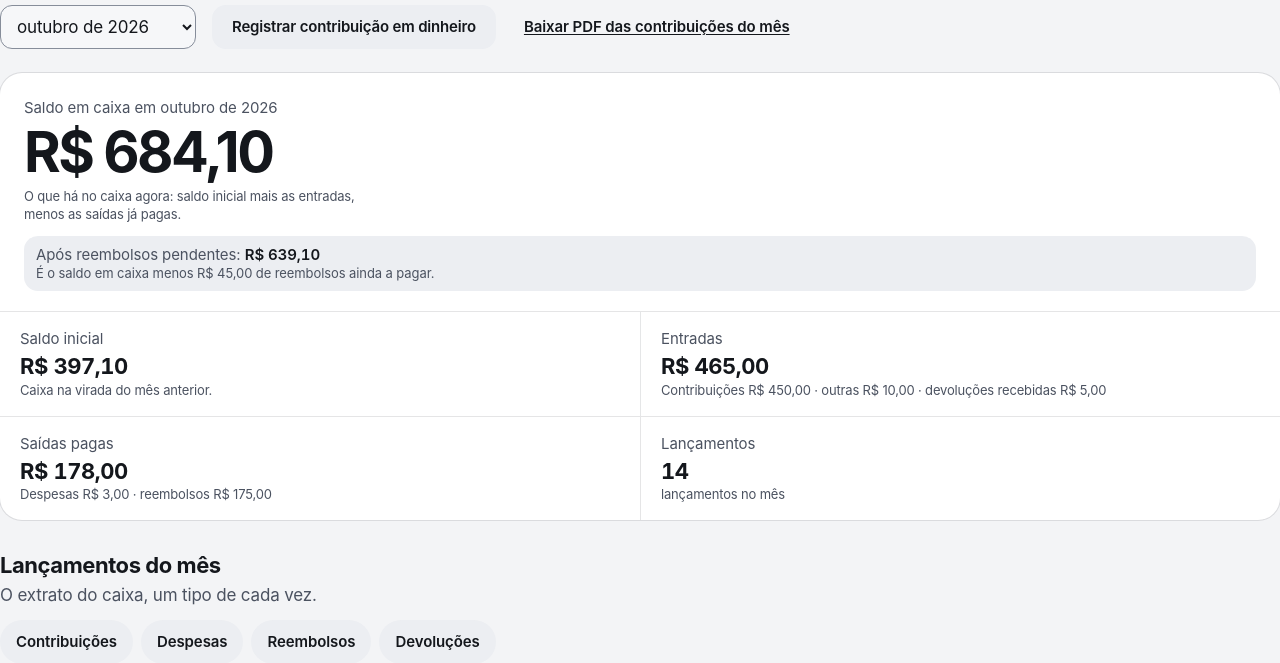
Scenario: PainelData: resumo real › depois de registrar uma contribuicao em dinheiro, os numeros sao recarregados
The image size is (1280, 663).
expect the heading "Saldo em caixa em outubro de 2026" is shown: met, box 24,98 -> 278,117
Step 1. Click the button "Registrar contribuição em dinheiro" → (354, 27), box 212,5 -> 496,49
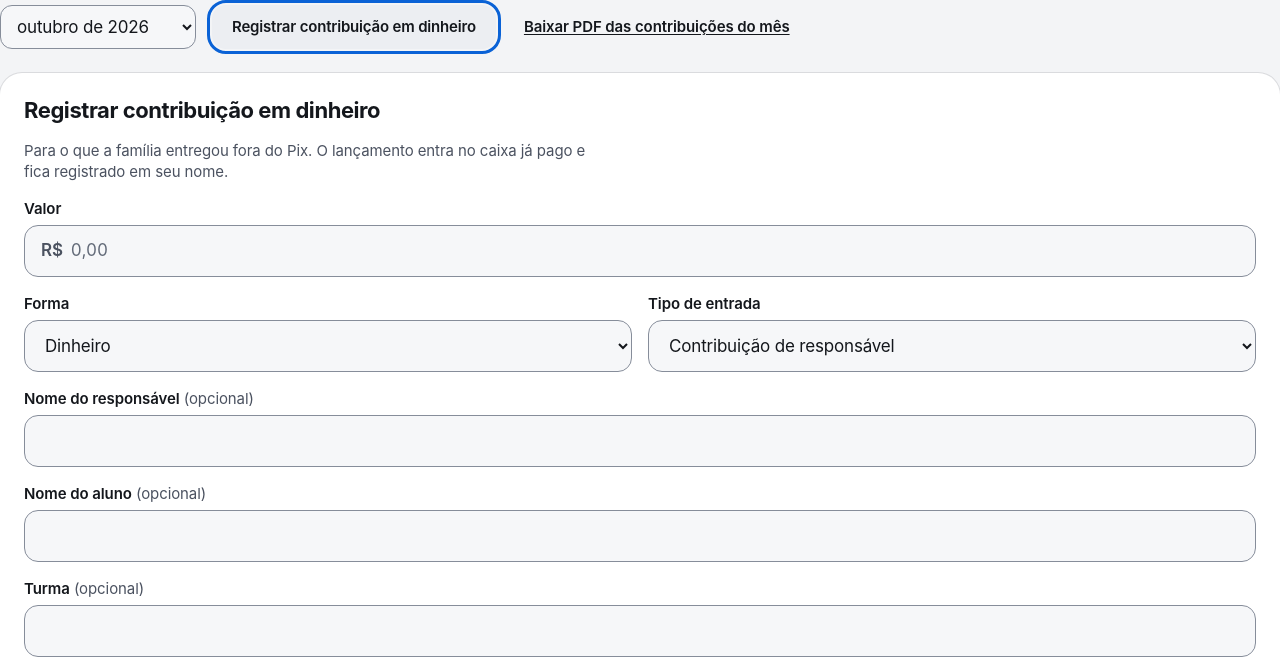
Step 2. Type "5000" into the field labelled "Valor" → (655, 251), box 71,226 -> 1239,276
(page scrolled)
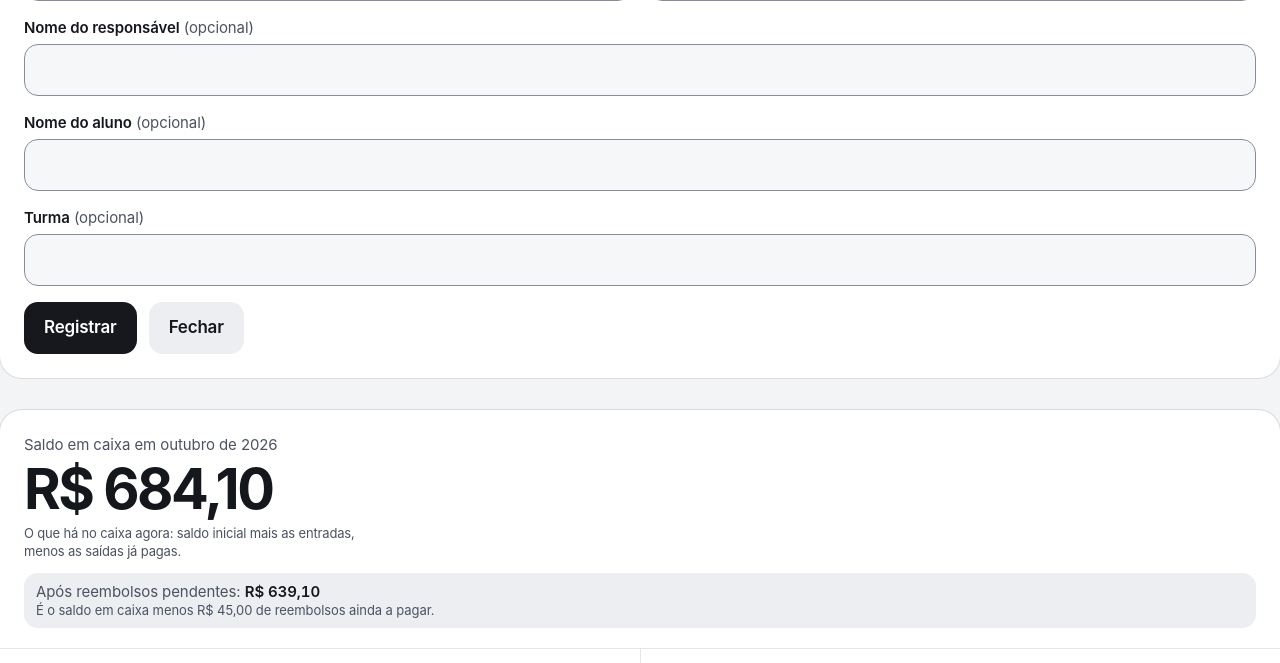
Step 3. Click the button "Registrar" → (80, 328), box 24,302 -> 137,354
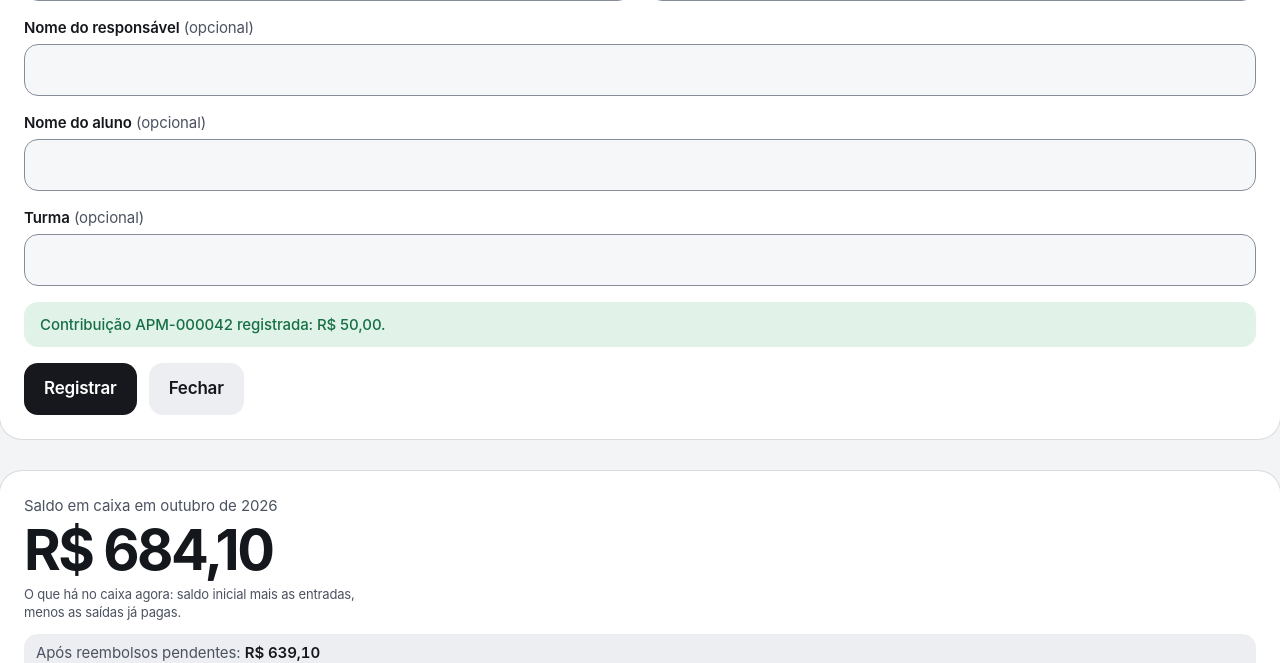
expect the text "Contribuição APM-000042 registrada: R$ 50,00." is shown: met, box 24,302 -> 1256,347
